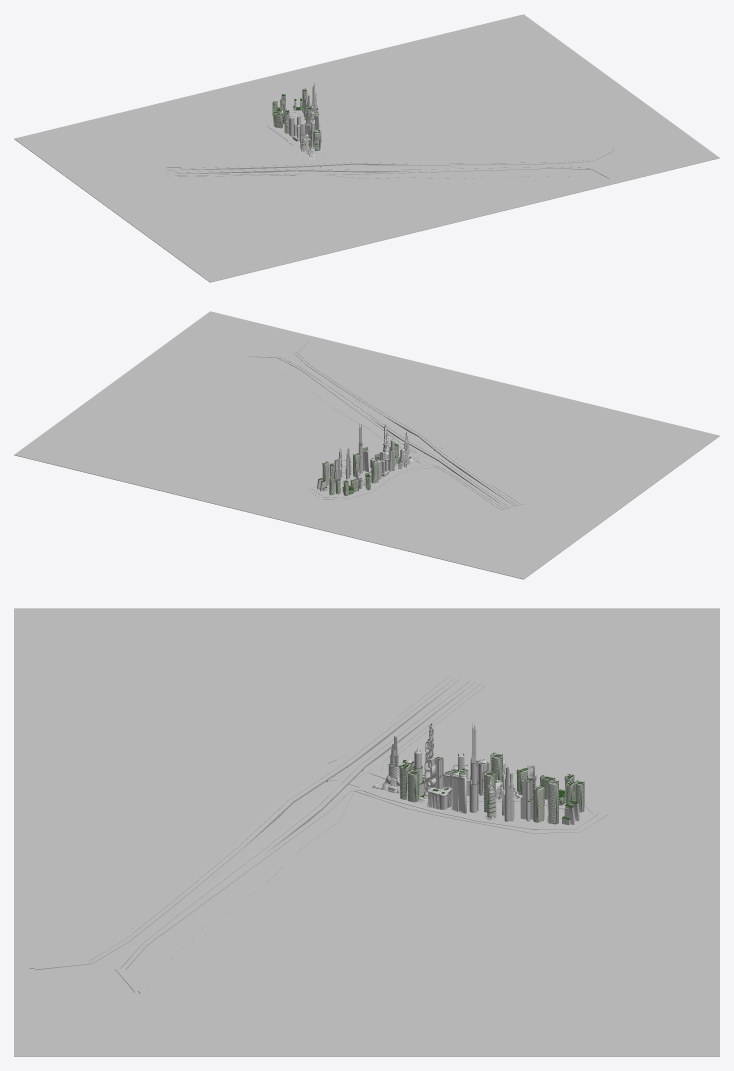
The model's file is LB_city.dae.
3 renders of one model, top to bottom at view 1: azimuth 30°, elevation 25°; view 2: azimuth 150°, elevation 25°; view 3: azimuth 270°, elevation 25°, orthographic. The views are drawn at different scales.
Parts seen in each view (by area): view 1: sea, base, highway, city buildings.001, city buildings.windows.001, base.001, city buildings.003; view 2: sea, base, highway, city buildings.001, city buildings.windows.001, base.001, city buildings.003; view 3: sea, base, highway, city buildings.001, city buildings.windows.001, base.001, city buildings.003, highway.001.
Part boxes in pixels (x1=…): sea: x1=14, y1=14, x2=719, y2=282; base: x1=166, y1=146, x2=609, y2=182; highway: x1=166, y1=148, x2=616, y2=179; city buildings.001: x1=272, y1=82, x2=321, y2=159; city buildings.windows.001: x1=273, y1=85, x2=318, y2=154; base.001: x1=265, y1=104, x2=329, y2=157; city buildings.003: x1=272, y1=86, x2=320, y2=151; sea: x1=14, y1=311, x2=719, y2=579; base: x1=248, y1=341, x2=525, y2=510; highway: x1=246, y1=338, x2=523, y2=509; city buildings.001: x1=317, y1=424, x2=419, y2=495; city buildings.windows.001: x1=317, y1=428, x2=419, y2=494; base.001: x1=307, y1=462, x2=420, y2=499; city buildings.003: x1=318, y1=424, x2=409, y2=495; sea: x1=14, y1=608, x2=719, y2=1056; base: x1=34, y1=674, x2=485, y2=989; highway: x1=29, y1=675, x2=480, y2=993; city buildings.001: x1=372, y1=722, x2=584, y2=825; city buildings.windows.001: x1=372, y1=726, x2=580, y2=825; base.001: x1=406, y1=785, x2=607, y2=833; city buildings.003: x1=389, y1=723, x2=584, y2=823; highway.001: x1=363, y1=786, x2=598, y2=829.
Size of the model in its own units: 2025 by 1350 by 204.
